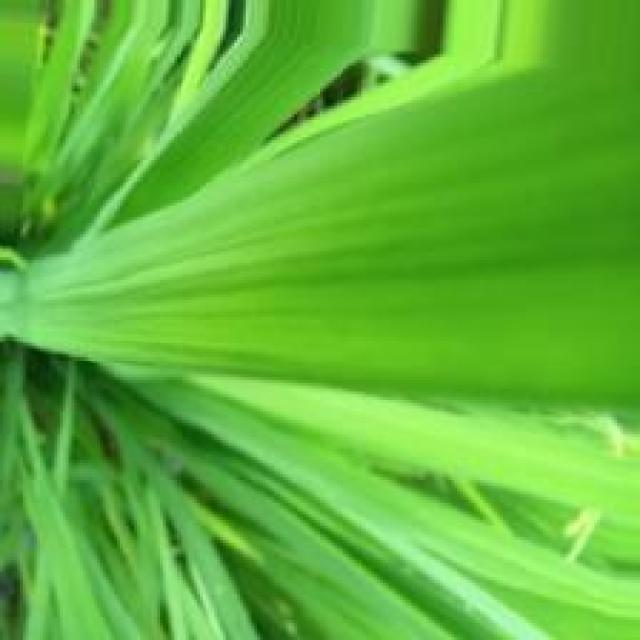HealthyLeaf: (2, 4, 640, 405)
